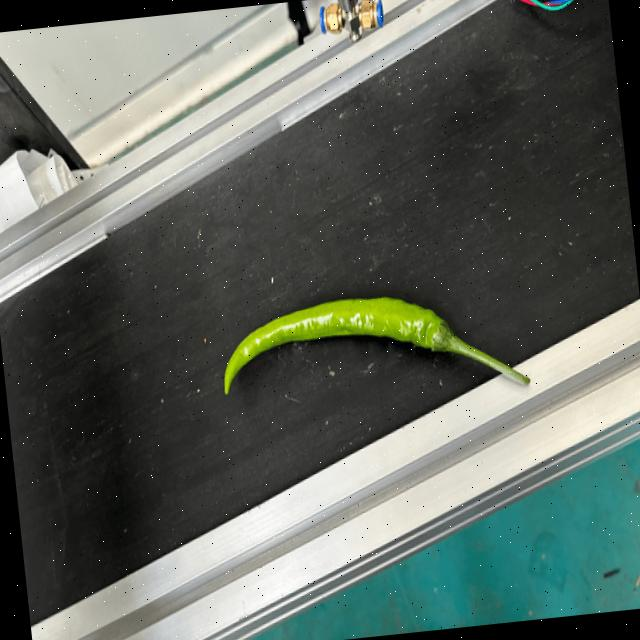chili: (223, 294, 454, 396)
